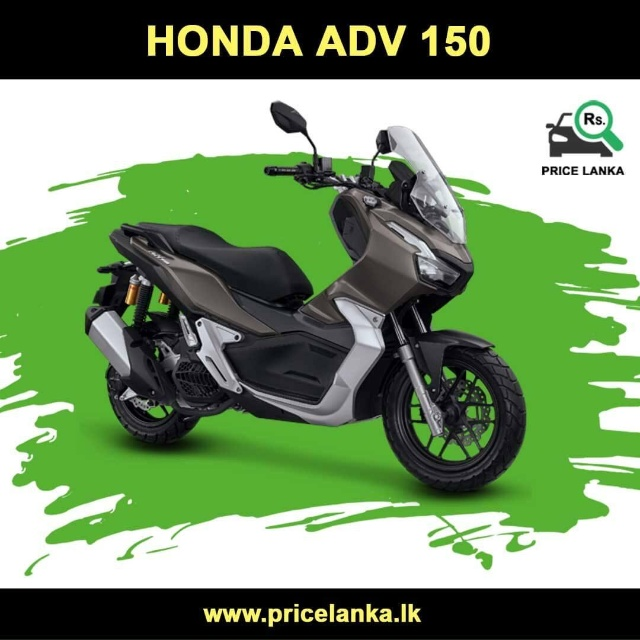Motorcycle: (85, 100, 526, 492)
